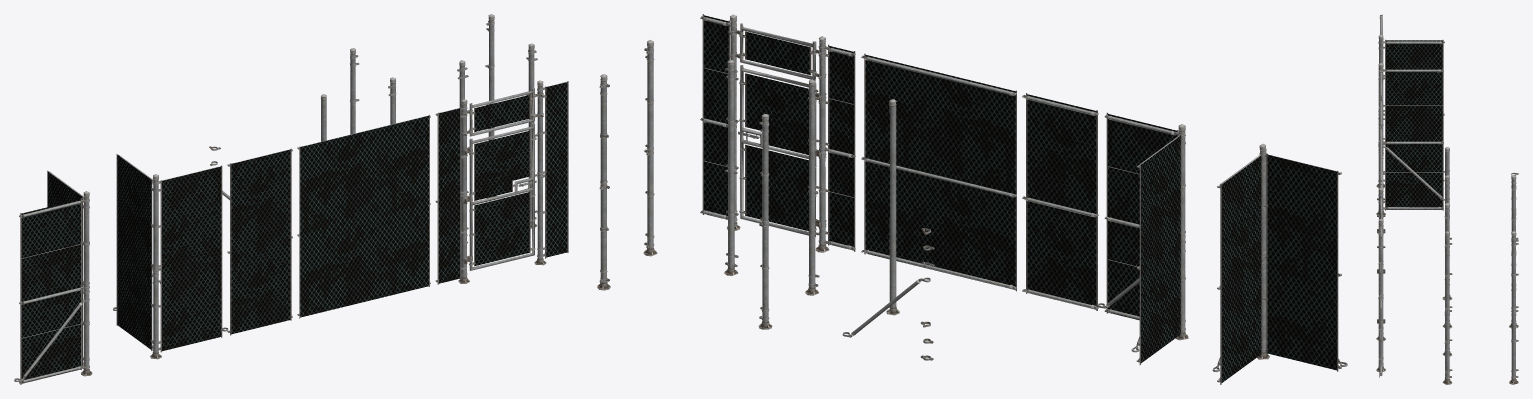
File: modular_chainlink_fence.gltf
3 renders of one model, left to right at view 1: azimuth 30°, elevation 25°; view 2: azimuth 150°, elevation 25°; view 3: azimuth 270°, elevation 25°, orthographic. The views are drawn at different scales.
Parts seen in each view (by area): view 1: modular_chainlink_fence_double, modular_chainlink_fence_corner_outer, modular_chainlink_fence_corner_inner, modular_chainlink_fence_door_frame, modular_chainlink_fence, modular_chainlink_fence_door_gate, modular_chainlink_fence_start_01_corner_01, modular_chainlink_fence_start_01_corner_02, modular_chainlink_fence_end_02; view 2: modular_chainlink_fence_double, modular_chainlink_fence_corner_inner, modular_chainlink_fence_corner_outer, modular_chainlink_fence_door_frame, modular_chainlink_fence, modular_chainlink_fence_door_gate, modular_chainlink_post_middle, modular_chainlink_fence_end_01, modular_chainlink_fence_start_01_corner_01, modular_chainlink_fence_post, modular_chainlink_fence_end_02, modular_chainlink_fence_start_01_corner_02; view 3: modular_chainlink_fence_corner_outer, modular_chainlink_fence_corner_inner, modular_chainlink_fence_door_frame, modular_chainlink_fence_start_01_corner_02, modular_chainlink_fence_start_01_corner_01, modular_chainlink_fence_end_02, modular_chainlink_fence_double, modular_chainlink_post_middle, modular_chainlink_fence_end_01, modular_chainlink_fence_post.
Boxes of the visible parts, left/top/right/bottom form: modular_chainlink_fence_double: left=297, top=115, right=430, bottom=318; modular_chainlink_fence_corner_outer: left=113, top=154, right=228, bottom=359; modular_chainlink_fence_corner_inner: left=14, top=170, right=92, bottom=384; modular_chainlink_fence_door_frame: left=435, top=80, right=568, bottom=284; modular_chainlink_fence: left=227, top=148, right=292, bottom=335; modular_chainlink_fence_door_gate: left=469, top=123, right=535, bottom=270; modular_chainlink_fence_start_01_corner_01: left=526, top=43, right=537, bottom=228; modular_chainlink_fence_start_01_corner_02: left=485, top=14, right=496, bottom=198; modular_chainlink_fence_end_02: left=350, top=48, right=359, bottom=134; modular_chainlink_fence_double: left=861, top=53, right=1016, bottom=291; modular_chainlink_fence_corner_inner: left=1212, top=143, right=1347, bottom=384; modular_chainlink_fence_corner_outer: left=1097, top=112, right=1188, bottom=364; modular_chainlink_fence_door_frame: left=700, top=14, right=855, bottom=252; modular_chainlink_fence: left=1022, top=93, right=1098, bottom=310; modular_chainlink_fence_door_gate: left=739, top=65, right=816, bottom=236; modular_chainlink_post_middle: left=724, top=60, right=738, bottom=275; modular_chainlink_fence_end_01: left=805, top=79, right=819, bottom=295; modular_chainlink_fence_start_01_corner_01: left=643, top=40, right=657, bottom=256; modular_chainlink_fence_post: left=886, top=99, right=899, bottom=315; modular_chainlink_fence_end_02: left=758, top=113, right=772, bottom=329; modular_chainlink_fence_start_01_corner_02: left=597, top=74, right=610, bottom=290; modular_chainlink_fence_corner_outer: left=1376, top=63, right=1449, bottom=233; modular_chainlink_fence_corner_inner: left=1376, top=14, right=1449, bottom=187; modular_chainlink_fence_door_frame: left=1376, top=182, right=1385, bottom=377; modular_chainlink_fence_start_01_corner_02: left=1509, top=231, right=1518, bottom=384; modular_chainlink_fence_start_01_corner_01: left=1442, top=231, right=1452, bottom=384; modular_chainlink_fence_end_02: left=1509, top=175, right=1518, bottom=328; modular_chainlink_fence_double: left=1379, top=126, right=1382, bottom=182; modular_chainlink_post_middle: left=1442, top=203, right=1451, bottom=356; modular_chainlink_fence_end_01: left=1442, top=175, right=1451, bottom=328; modular_chainlink_fence_post: left=1442, top=147, right=1452, bottom=300.
Bounding box in the file's own units: 8.11 × 2.52 × 2.15.
2 materials, 2 textured.
